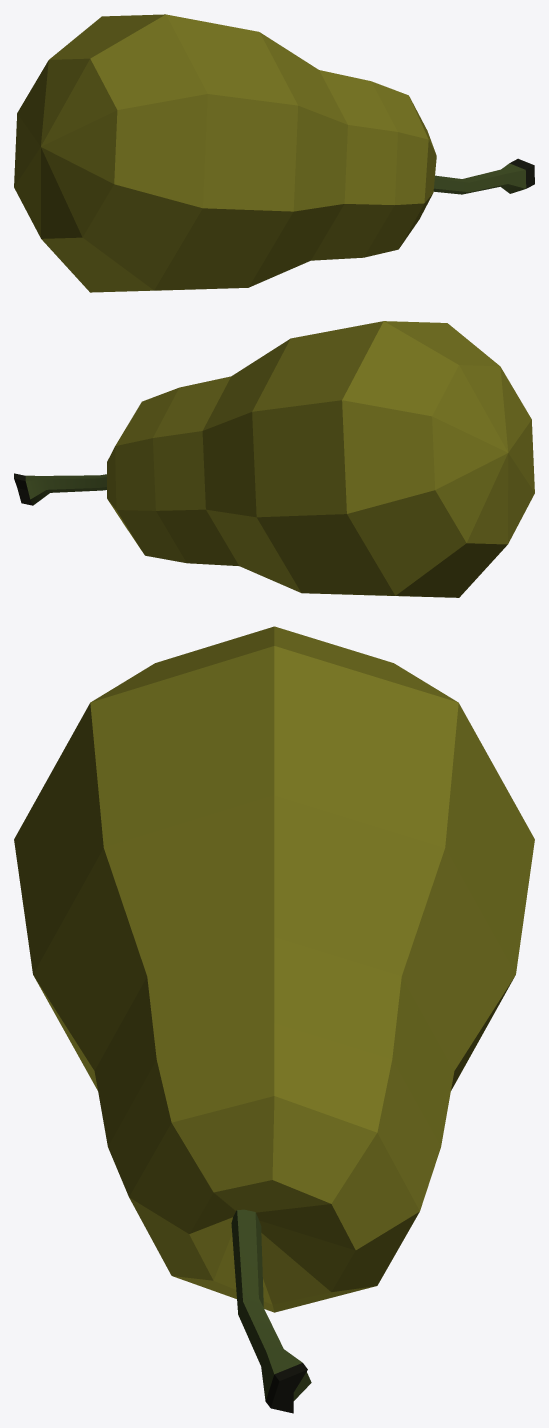
3 renders of one model, top to bottom at view 1: azimuth 30°, elevation 25°; view 2: azimuth 150°, elevation 25°; view 3: azimuth 270°, elevation 25°, orthographic. The views are drawn at different scales.
Parts seen in each view (by area): view 1: 梨; view 2: 梨; view 3: 梨.
Part boxes in pixels (left/top/right/bottom): 梨: left=14, top=14, right=534, bottom=292; 梨: left=14, top=321, right=534, bottom=597; 梨: left=14, top=626, right=534, bottom=1413.
Size of the model in its own units: 19.47 by 10.2 by 10.73.
